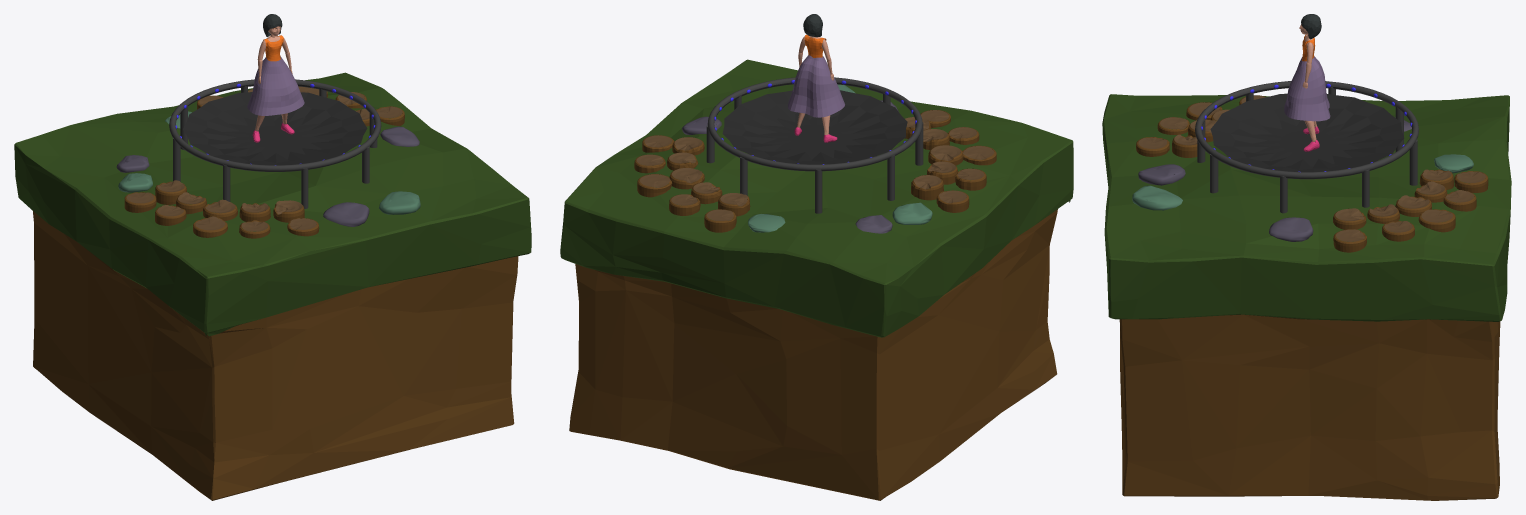
The model's file is tile_trampolin.min.gltf.
The picture shows the model from 3 angles, left to right: view 1: azimuth 30°, elevation 25°; view 2: azimuth 150°, elevation 25°; view 3: azimuth 270°, elevation 25°; orthographic projection. The views are drawn at different scales.
Parts seen in each view (by area): view 1: CENTERED.010, Plane.006, Sphere.023, Torus.001, CENTERED.011, Cylinder.006, CENTERED.012; view 2: CENTERED.010, Plane.006, Sphere.023, Torus.001, CENTERED.012, Cylinder.006; view 3: CENTERED.010, Plane.006, Torus.001, Sphere.023, CENTERED.011, Cylinder.006, CENTERED.012.
Part boxes in pixels (<box>): CENTERED.010: <box>14,72,531,500</box>; Plane.006: <box>183,92,367,165</box>; Sphere.023: <box>247,14,304,142</box>; Torus.001: <box>169,79,381,171</box>; CENTERED.011: <box>323,126,420,226</box>; Cylinder.006: <box>173,86,377,208</box>; CENTERED.012: <box>116,111,191,192</box>; CENTERED.010: <box>560,59,1073,500</box>; Plane.006: <box>722,90,907,164</box>; Sphere.023: <box>788,14,844,142</box>; Torus.001: <box>707,77,922,171</box>; CENTERED.012: <box>748,202,932,233</box>; Cylinder.006: <box>706,93,923,213</box>; CENTERED.010: <box>1102,94,1511,500</box>; Plane.006: <box>1210,93,1404,172</box>; Torus.001: <box>1195,81,1418,179</box>; Sphere.023: <box>1284,14,1330,151</box>; CENTERED.011: <box>1132,164,1313,241</box>; Cylinder.006: <box>1197,87,1417,213</box>; CENTERED.012: <box>1395,117,1473,173</box>.
Bounding box in the file's own units: 1.07 × 1.19 × 1.09.
